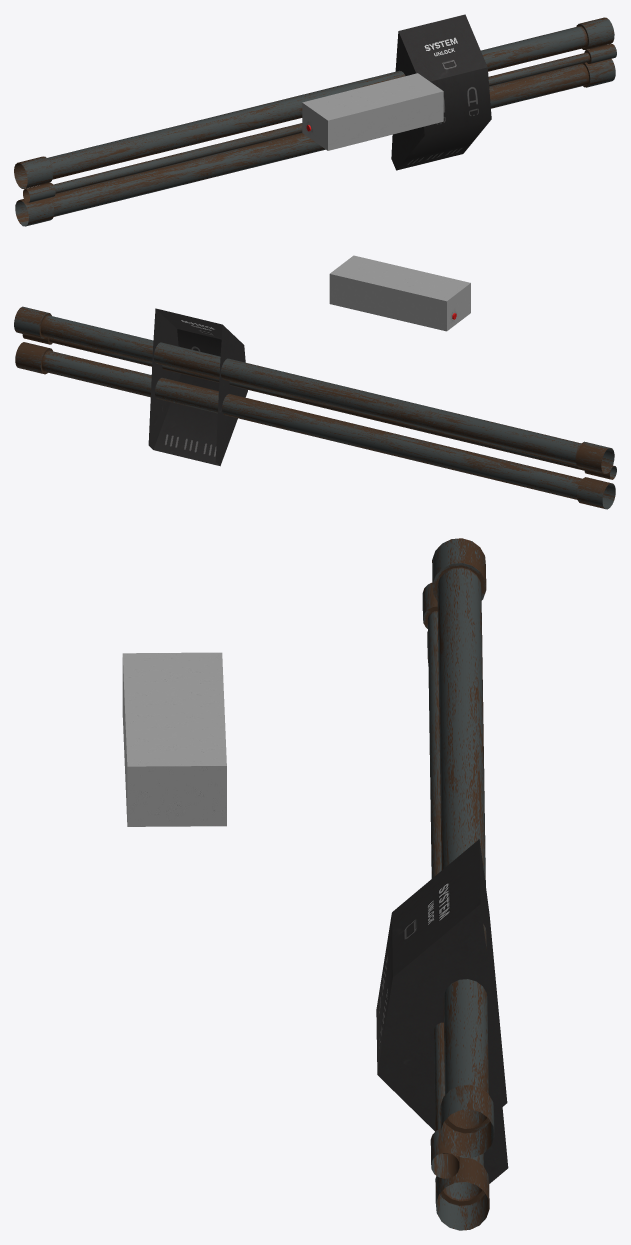
File: Hallway.fbx
3 views of the same model, one above another, from view 1: azimuth 30°, elevation 25°; view 2: azimuth 150°, elevation 25°; view 3: azimuth 270°, elevation 25° (orthographic). The views are drawn at different scales.
Parts seen in each view (by area): view 1: PipesPared_Normal_tubos_largos_0.001, TubosConexion_Low002_conexion_tubos_0.001, defaultMaterial.006; view 2: PipesPared_Normal_tubos_largos_0.001, TubosConexion_Low002_conexion_tubos_0.001, defaultMaterial.006; view 3: PipesPared_Normal_tubos_largos_0.001, TubosConexion_Low002_conexion_tubos_0.001, defaultMaterial.006.
Boxes of the visible parts, x1,y1,x2,y2 form: PipesPared_Normal_tubos_largos_0.001: (14, 17, 616, 226); TubosConexion_Low002_conexion_tubos_0.001: (391, 14, 491, 170); defaultMaterial.006: (302, 73, 443, 150); PipesPared_Normal_tubos_largos_0.001: (14, 306, 616, 509); TubosConexion_Low002_conexion_tubos_0.001: (148, 308, 247, 466); defaultMaterial.006: (329, 255, 470, 331); PipesPared_Normal_tubos_largos_0.001: (422, 538, 494, 1230); TubosConexion_Low002_conexion_tubos_0.001: (376, 839, 508, 1183); defaultMaterial.006: (122, 652, 226, 826).
Size of the model in its own units: 790 by 200 by 225.
3 materials, 3 textured.
